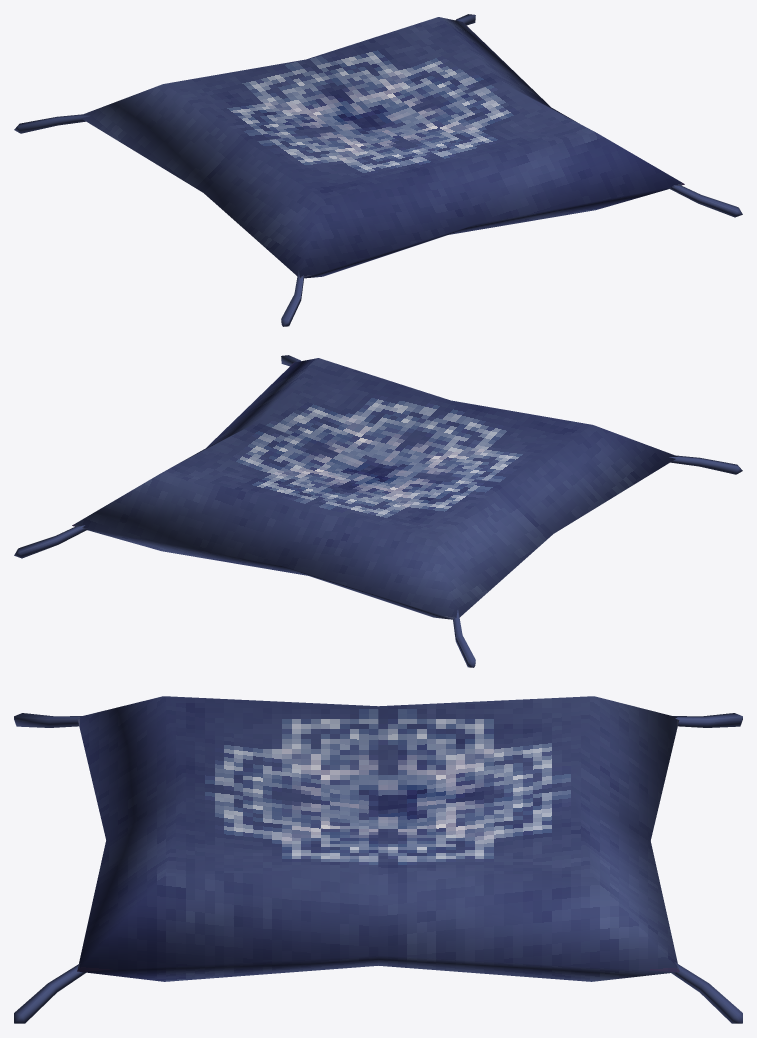
The model's file is cushion_blue.fbx.
3 renders of one model, top to bottom at view 1: azimuth 30°, elevation 25°; view 2: azimuth 150°, elevation 25°; view 3: azimuth 270°, elevation 25°, orthographic. The views are drawn at different scales.
Visible parts, largest first — view 1: cushion_blue; view 2: cushion_blue; view 3: cushion_blue.
Part boxes in pixels (x1,y1,x2,y2): cushion_blue: [14, 14, 742, 326]; cushion_blue: [14, 355, 742, 667]; cushion_blue: [14, 696, 742, 1023].
Size of the model in its own units: 54.56 by 8.82 by 55.28.
